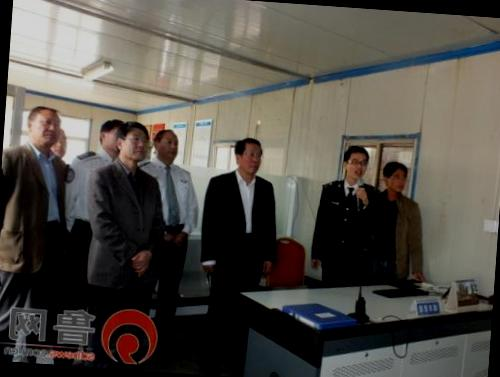no_helmet: (21, 101, 64, 152), (110, 119, 152, 168), (96, 112, 132, 160), (228, 134, 266, 179), (339, 142, 374, 186), (378, 155, 413, 199)
